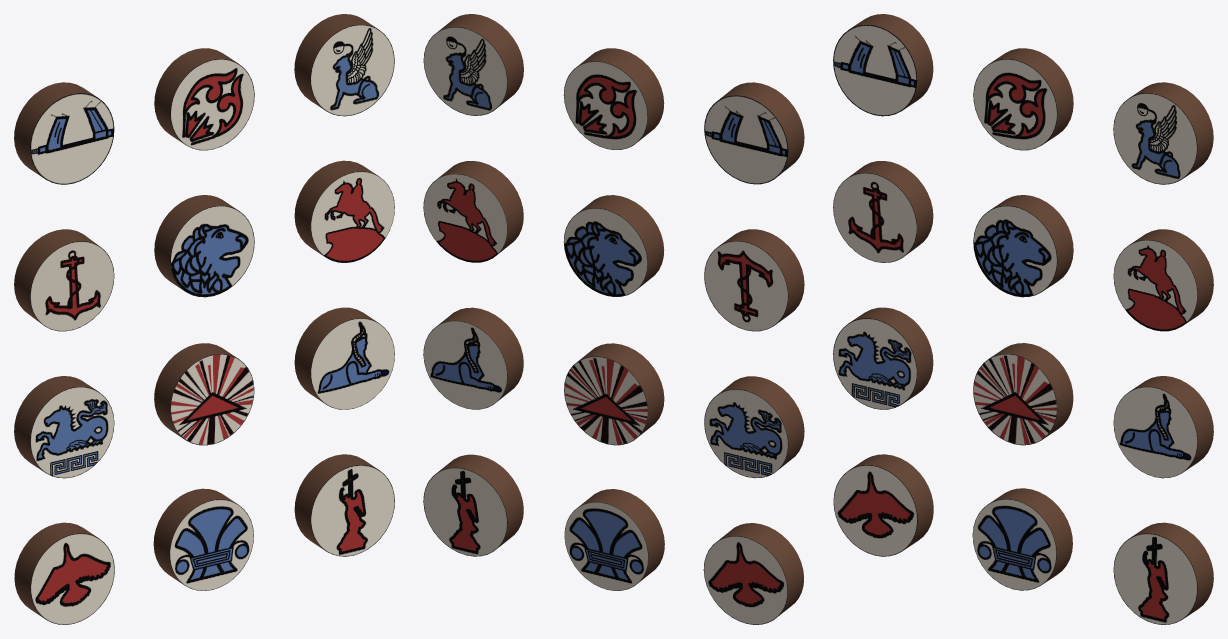
The picture shows the model from 3 angles, left to right: view 1: azimuth 30°, elevation 25°; view 2: azimuth 150°, elevation 25°; view 3: azimuth 330°, elevation 25°; orthographic projection.
Visible parts, largest first — view 1: Д10, Д6, Д9, Д12.004, Д9.001, Д8, Д11, Д12.003, Д3, Д12, Д5, Д2; view 2: Д2, Д10, Д11, Д12, Д12.004, Д5, Д8, Д3, Д9, Д12.003, Д9.001, Д6; view 3: Д5, Д3, Д9, Д12.004, Д9.001, Д12.003, Д12, Д11, Д6, Д8, Д10, Д2.
Boxes of the visible parts, bbox=[...] form: Д10: bbox=[294, 307, 394, 409]; Д6: bbox=[154, 195, 254, 297]; Д9: bbox=[154, 48, 254, 150]; Д12.004: bbox=[154, 343, 254, 445]; Д9.001: bbox=[294, 14, 394, 116]; Д8: bbox=[14, 82, 114, 184]; Д11: bbox=[294, 454, 394, 556]; Д12.003: bbox=[14, 522, 114, 624]; Д3: bbox=[14, 376, 114, 478]; Д12: bbox=[153, 488, 253, 590]; Д5: bbox=[294, 160, 394, 262]; Д2: bbox=[14, 229, 114, 331]; Д2: bbox=[704, 229, 804, 331]; Д10: bbox=[423, 307, 523, 409]; Д11: bbox=[423, 454, 523, 556]; Д12: bbox=[564, 489, 664, 590]; Д12.004: bbox=[564, 343, 664, 445]; Д5: bbox=[423, 161, 523, 262]; Д8: bbox=[704, 82, 804, 184]; Д3: bbox=[704, 376, 804, 478]; Д9: bbox=[563, 48, 664, 149]; Д12.003: bbox=[703, 523, 803, 624]; Д9.001: bbox=[423, 14, 523, 115]; Д6: bbox=[563, 195, 664, 296]; Д5: bbox=[1113, 229, 1213, 331]; Д3: bbox=[833, 307, 933, 409]; Д9: bbox=[973, 48, 1073, 150]; Д12.004: bbox=[973, 343, 1073, 445]; Д9.001: bbox=[1113, 82, 1213, 184]; Д12.003: bbox=[833, 454, 933, 556]; Д12: bbox=[972, 488, 1072, 590]; Д11: bbox=[1113, 522, 1213, 624]; Д6: bbox=[973, 195, 1073, 297]; Д8: bbox=[833, 14, 933, 116]; Д10: bbox=[1113, 376, 1213, 478]; Д2: bbox=[833, 161, 933, 262].
Bounding box in the file's own units: 0.052 × 0.0721 × 0.00444.
13 materials, 12 textured.
